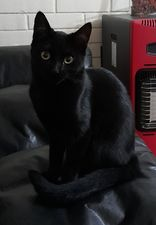cat: (22, 5, 144, 208)
